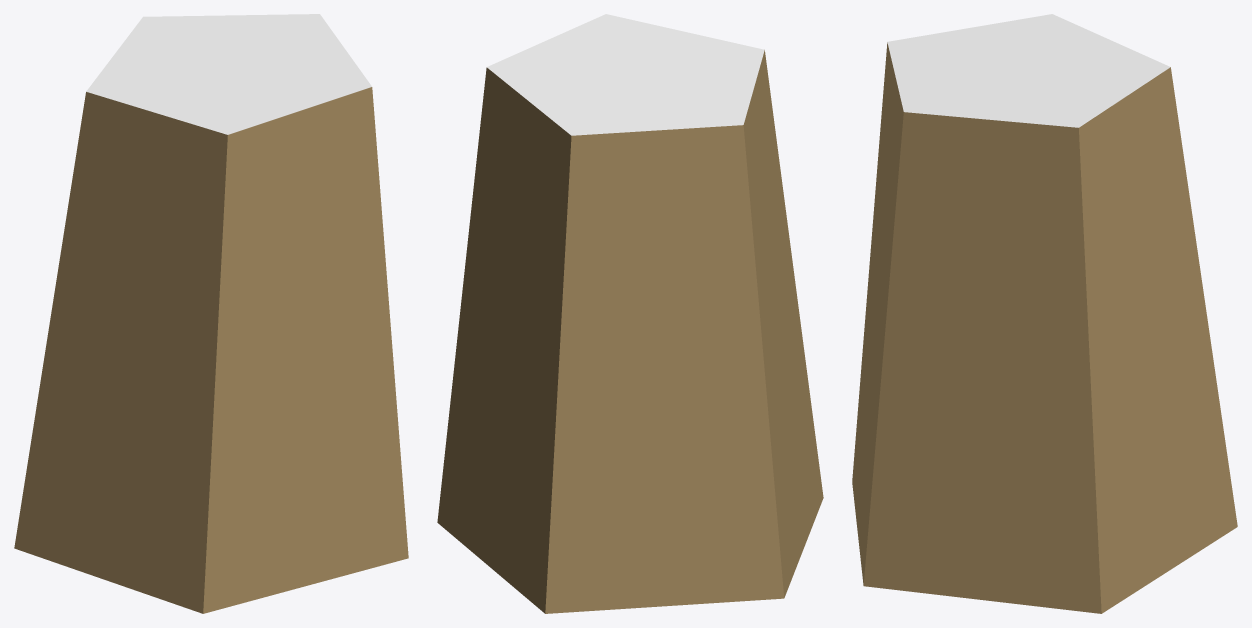
Rendered from Apple_Stump_Snow_02_LOD.fbx.
3 views of the same model, side by side, from view 1: azimuth 30°, elevation 25°; view 2: azimuth 150°, elevation 25°; view 3: azimuth 270°, elevation 25° (orthographic). The views are drawn at different scales.
Visible parts, largest first — view 1: Apple_Stump_Snow_02_LOD0; view 2: Apple_Stump_Snow_02_LOD0; view 3: Apple_Stump_Snow_02_LOD0.
Part boxes in pixels (x1,y1,x2,y2): Apple_Stump_Snow_02_LOD0: (14,14,408,613); Apple_Stump_Snow_02_LOD0: (437,14,823,613); Apple_Stump_Snow_02_LOD0: (852,14,1237,613).
Size of what is drawn, in the model's own units: 54.47 by 70.33 by 52.62.
